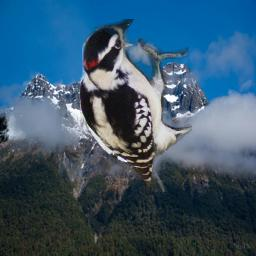Woodpecker: (80, 19, 192, 192)
